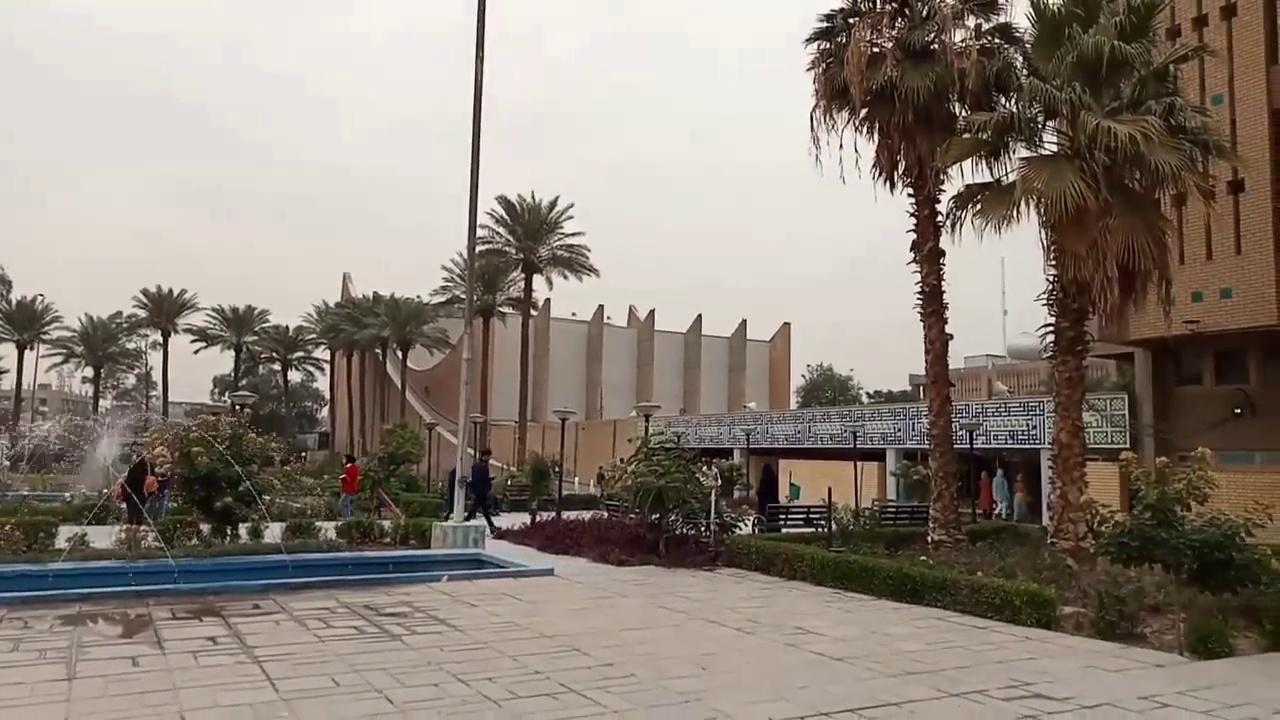fountain: (1, 408, 554, 598), (1, 515, 554, 598), (428, 518, 487, 550)
person: (463, 447, 501, 534), (121, 450, 151, 525), (337, 453, 360, 518), (698, 456, 721, 517), (991, 467, 1011, 520), (1012, 472, 1031, 523), (976, 470, 992, 519), (595, 465, 606, 498)
tree: (942, 0, 1245, 562), (801, 0, 1020, 553), (1087, 444, 1276, 658), (472, 189, 599, 471), (428, 247, 535, 461), (298, 294, 380, 457), (605, 417, 709, 543), (361, 290, 454, 423), (41, 309, 140, 417), (129, 283, 200, 420), (0, 291, 60, 441), (251, 322, 325, 439), (187, 302, 271, 402), (356, 418, 425, 518), (109, 310, 161, 429), (793, 360, 863, 409)
